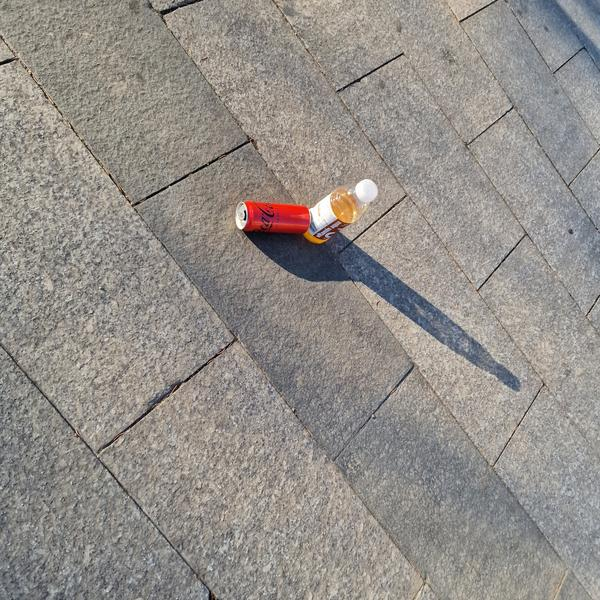can: (236, 200, 311, 233)
plastic_bottle: (293, 165, 387, 252)
